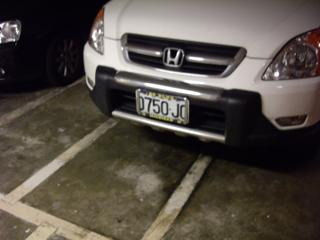plate: (134, 87, 190, 127)
